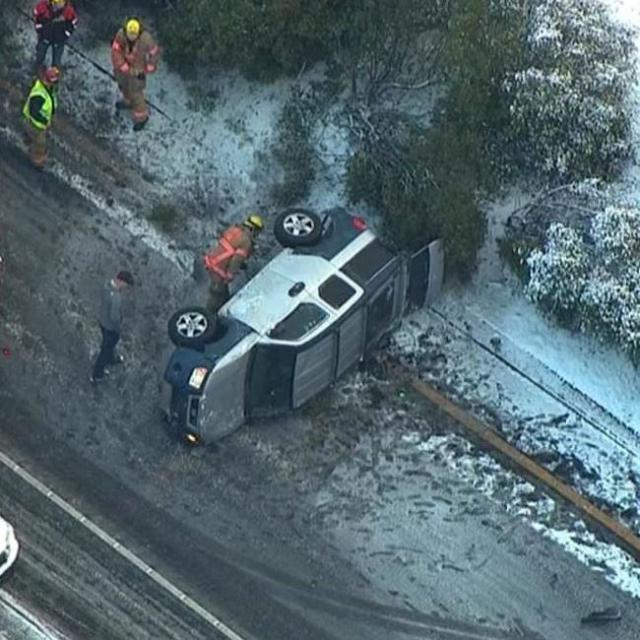traffic_incident: (156, 175, 453, 444)
